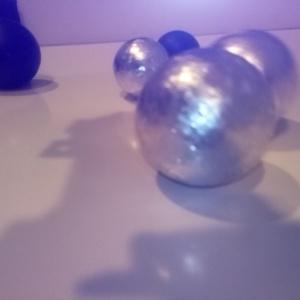alive_ball: (136, 48, 275, 188), (208, 31, 297, 127), (114, 38, 170, 97)
dead_ball: (1, 21, 41, 91), (156, 30, 200, 78)
